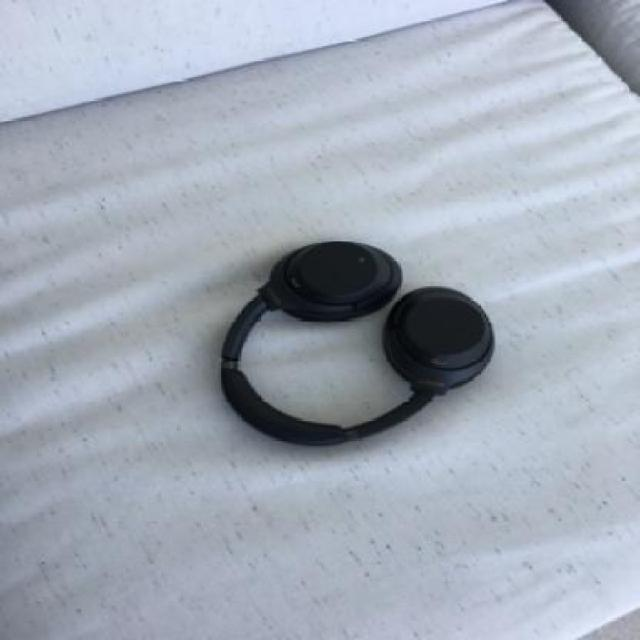earphone: (178, 58, 480, 505)
